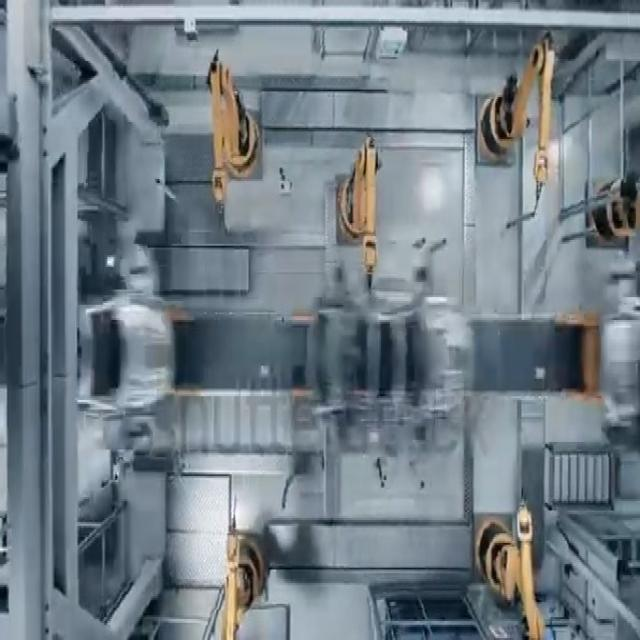auto: (2, 286, 192, 418), (310, 288, 475, 431)
robot: (472, 42, 567, 233), (185, 47, 276, 229), (466, 476, 545, 640), (318, 141, 380, 304), (216, 516, 284, 640)
